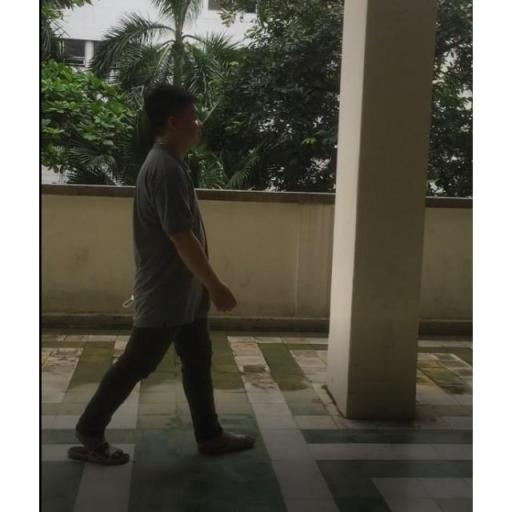Running: (69, 76, 261, 466)
